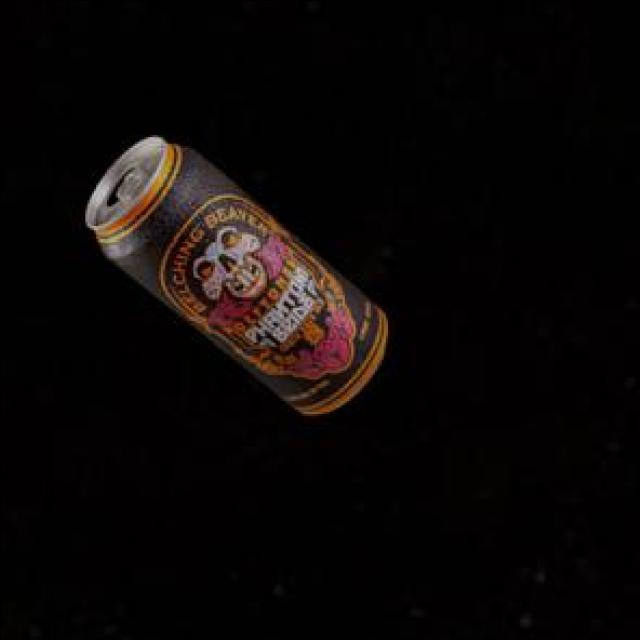logam: (81, 133, 384, 410)
